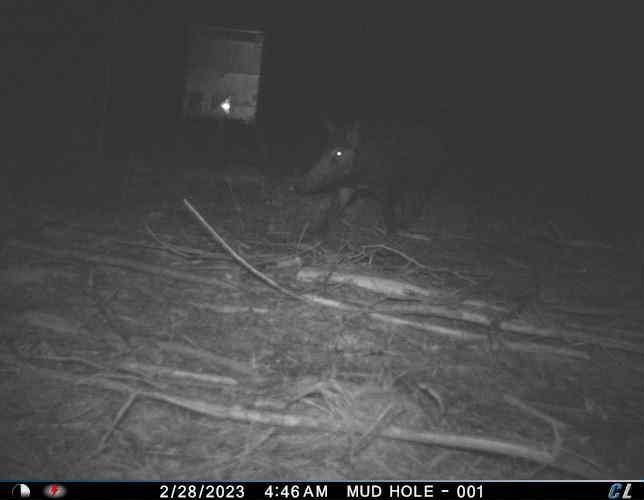Hog: (286, 113, 472, 246)
